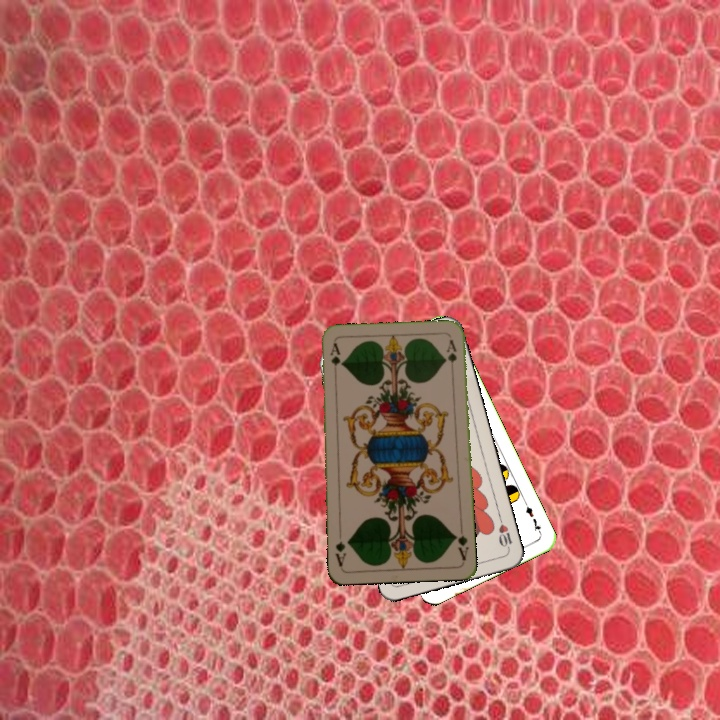E7: (520, 499, 544, 537)
GA: (451, 523, 471, 563), (326, 339, 342, 380)
H10: (494, 513, 515, 553)
